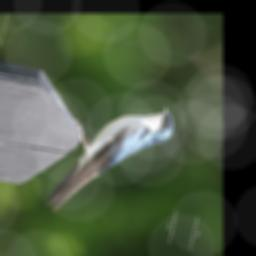Swallow: (43, 84, 178, 237)
